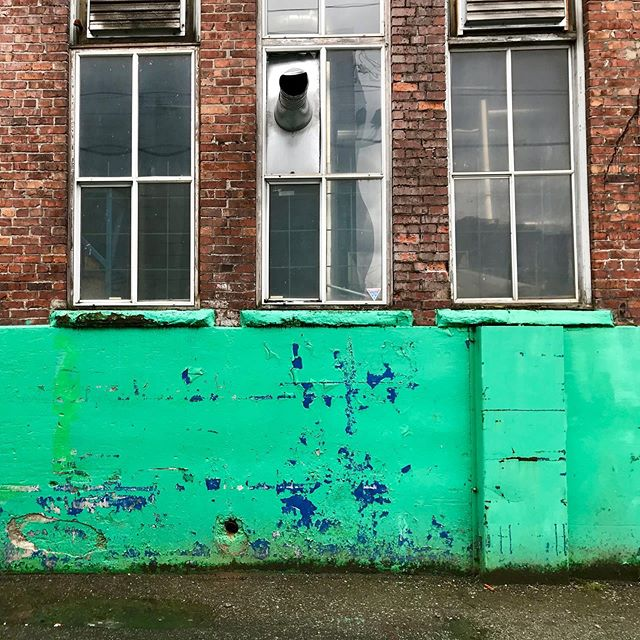building: (1, 1, 631, 567)
window: (71, 56, 201, 312), (450, 43, 580, 299), (258, 47, 388, 303)
